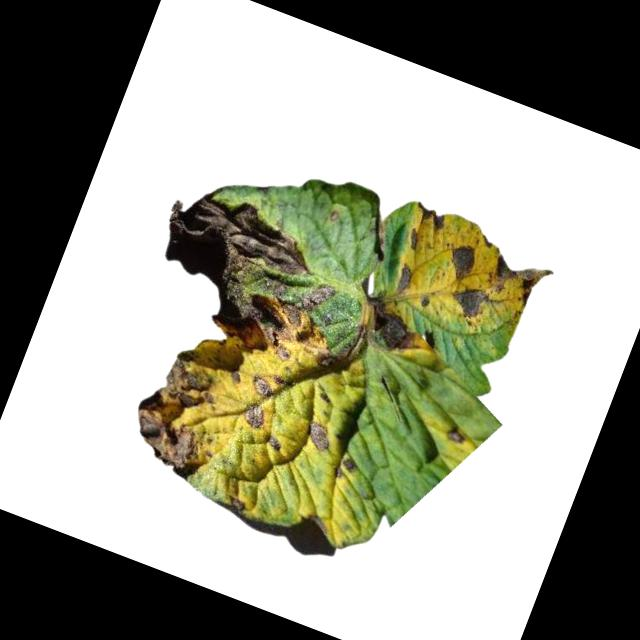Early_blight: (151, 175, 322, 312), (120, 341, 241, 482), (196, 274, 319, 387), (354, 289, 433, 360), (486, 248, 558, 312), (310, 317, 373, 388), (446, 280, 494, 324), (442, 239, 482, 284), (299, 276, 336, 314), (410, 201, 450, 236), (301, 418, 335, 455), (391, 260, 423, 299), (245, 369, 281, 402), (241, 401, 270, 432), (444, 420, 473, 450), (222, 490, 252, 517), (405, 227, 426, 252), (262, 431, 286, 452), (227, 366, 248, 389)
